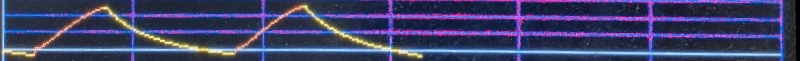normal_volume: (21, 0, 424, 61)
